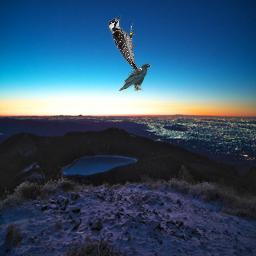Crow: (118, 63, 151, 92)
Woodpecker: (108, 15, 140, 76)
